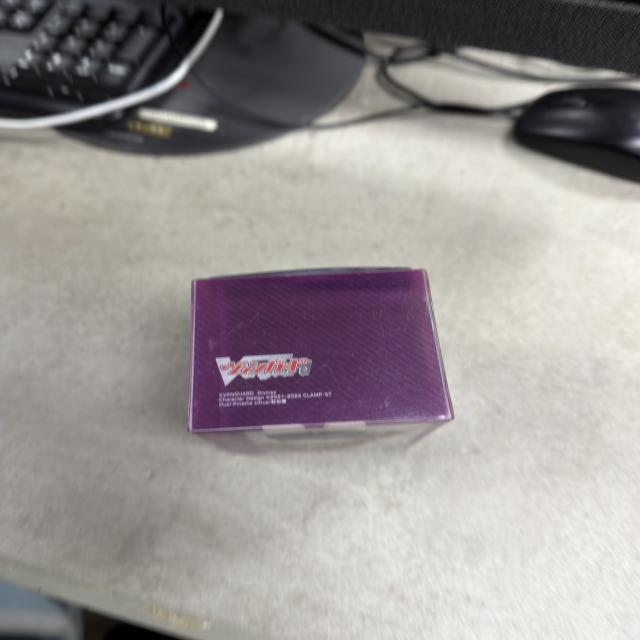box: (187, 264, 457, 466)
